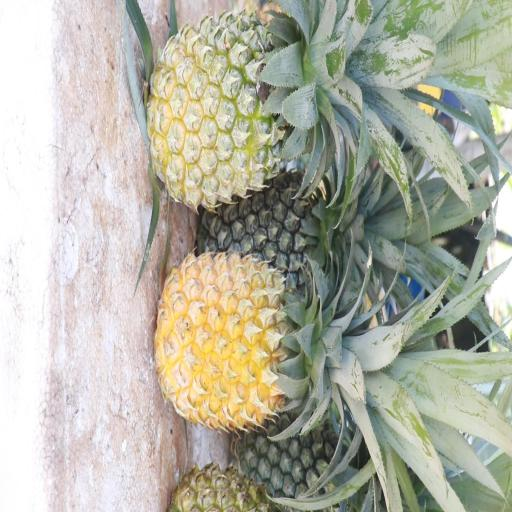------------------------------: (148, 10, 330, 203)
Pineapple - v8 v1: (160, 255, 331, 428)
